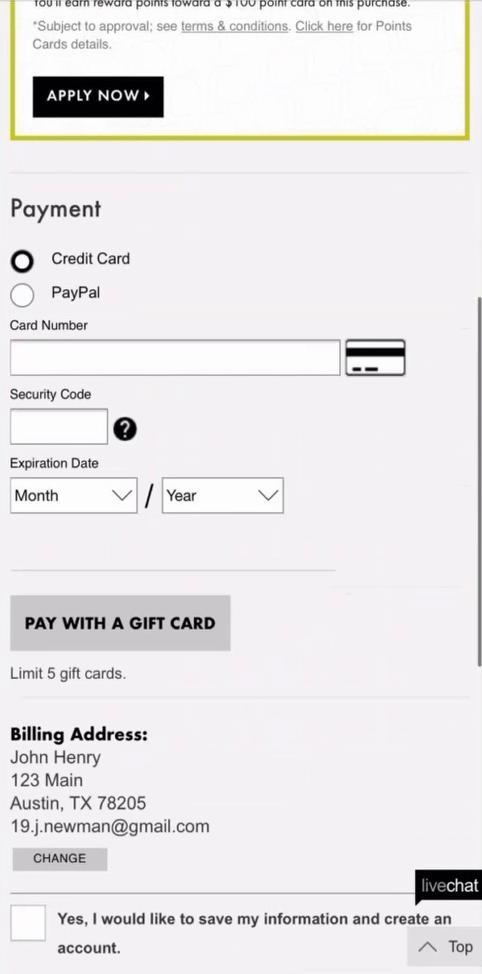button: (11, 595, 233, 653), (33, 76, 167, 120), (13, 847, 110, 874)
checkbox: (9, 903, 50, 945)
dropdown: (9, 477, 141, 516), (161, 476, 287, 516)
input: (9, 338, 343, 378), (9, 407, 111, 447)
label: (57, 907, 456, 936), (5, 721, 156, 748), (7, 194, 105, 225), (9, 385, 96, 407), (10, 456, 102, 474), (52, 250, 134, 269), (9, 319, 91, 335), (48, 283, 105, 303)
radio: (10, 248, 36, 276), (9, 284, 36, 310)
